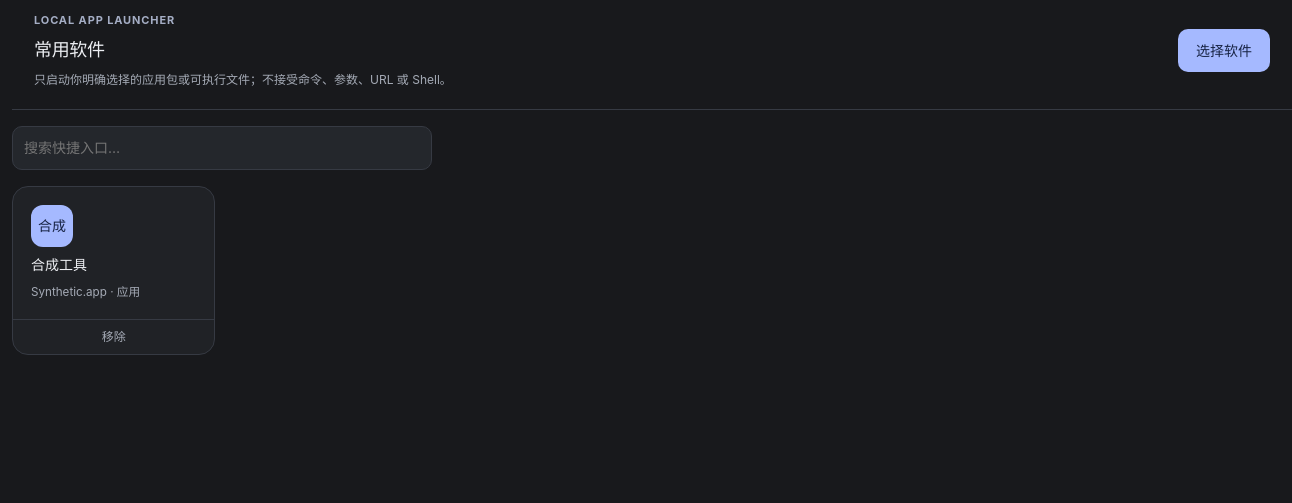
Test: software data coverage › requires removal confirmation and keeps the entry on failure
Click the button "移除". click: click(114, 336)
box: [13,319,214,354]
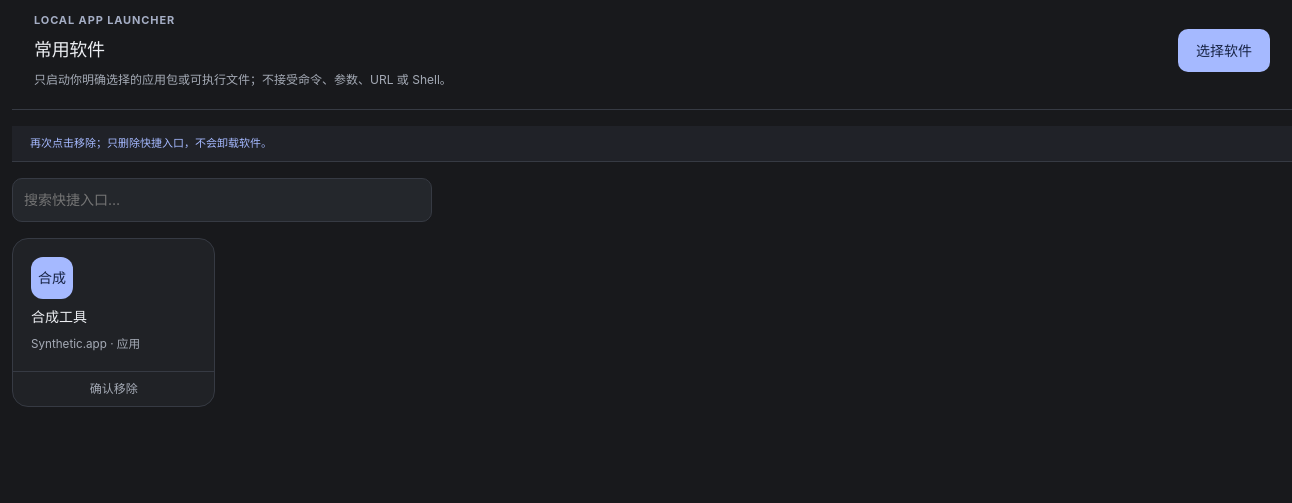
Click the button "确认移除". click: click(114, 388)
box: [13,371,214,406]
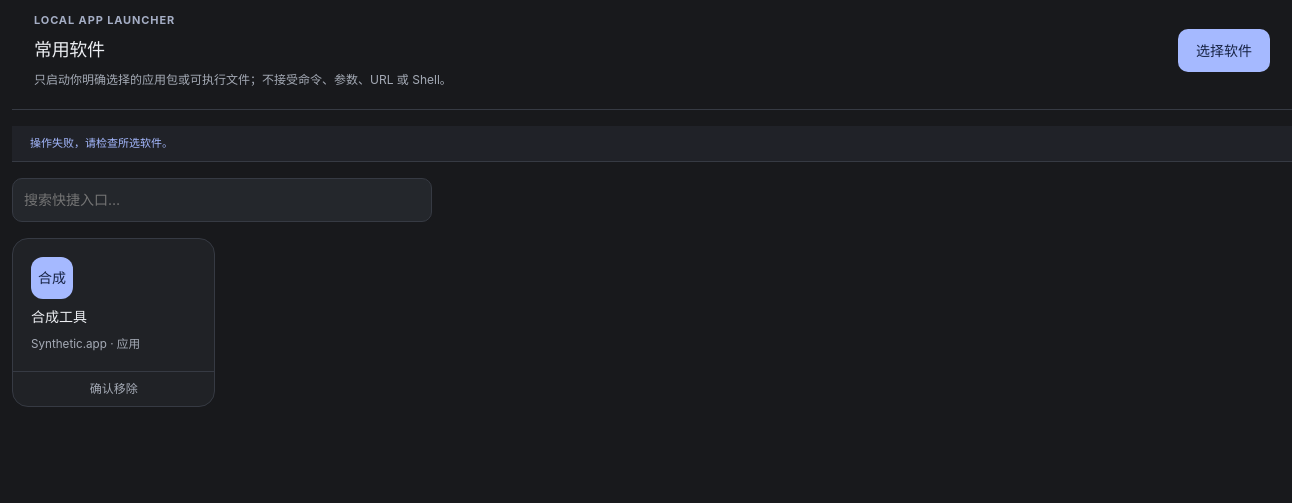
expect the button "合成 合成工具 Synthetic.app · 应用" is shown: met, box [13,239,214,371]
expect the text "操作失败，请检查所选软件。" is shown: met, box [12,126,1291,162]
Click the button "确认移除". click: click(114, 388)
box: [13,371,214,406]
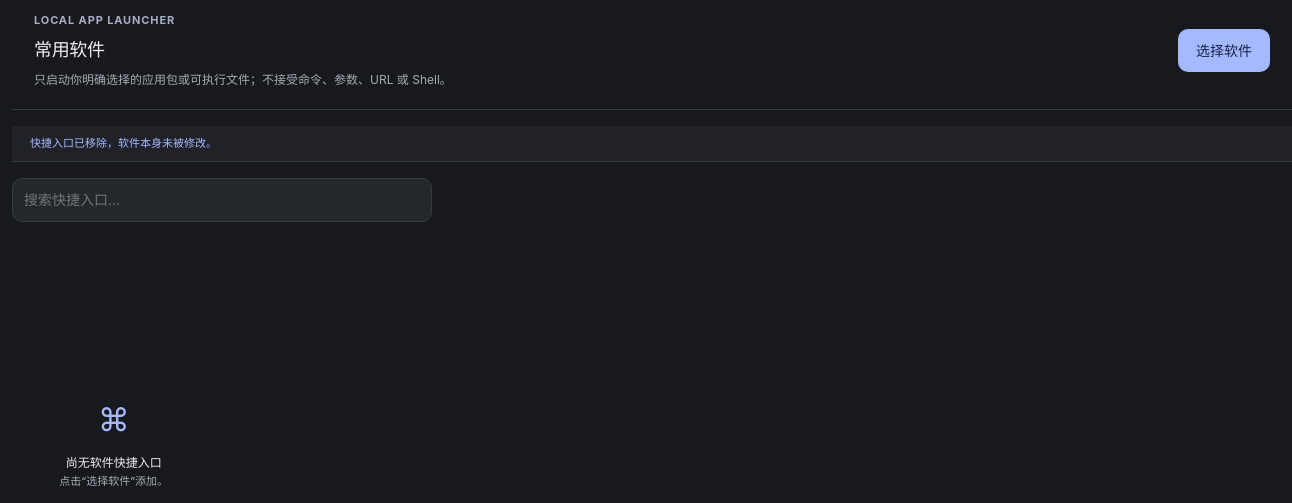
expect the button "Synthetic.app" is gone: met
expect the message shows "软件本身未被修改": met, box [30,136,217,150]
